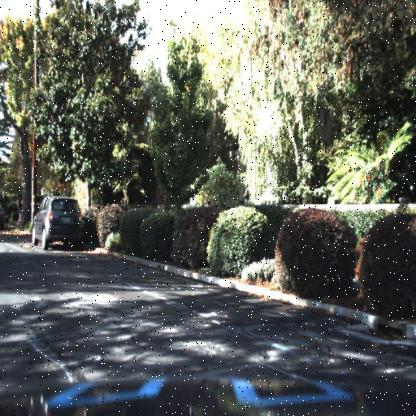car: (26, 181, 98, 261)
